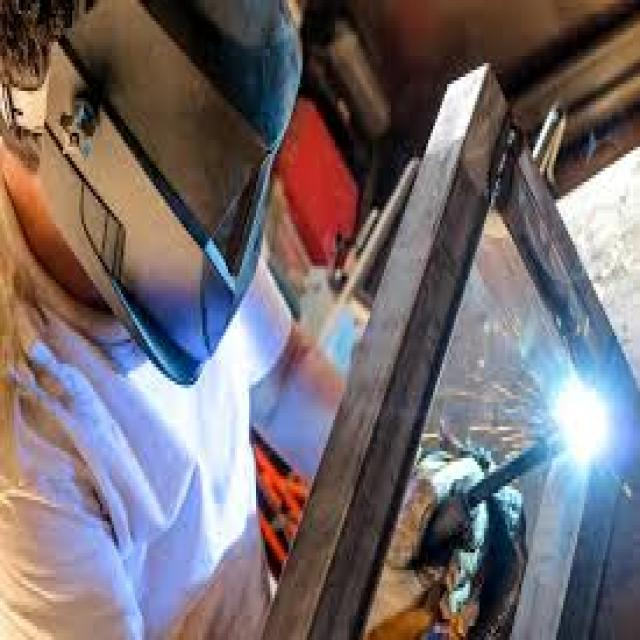welding: (560, 385, 608, 465)
